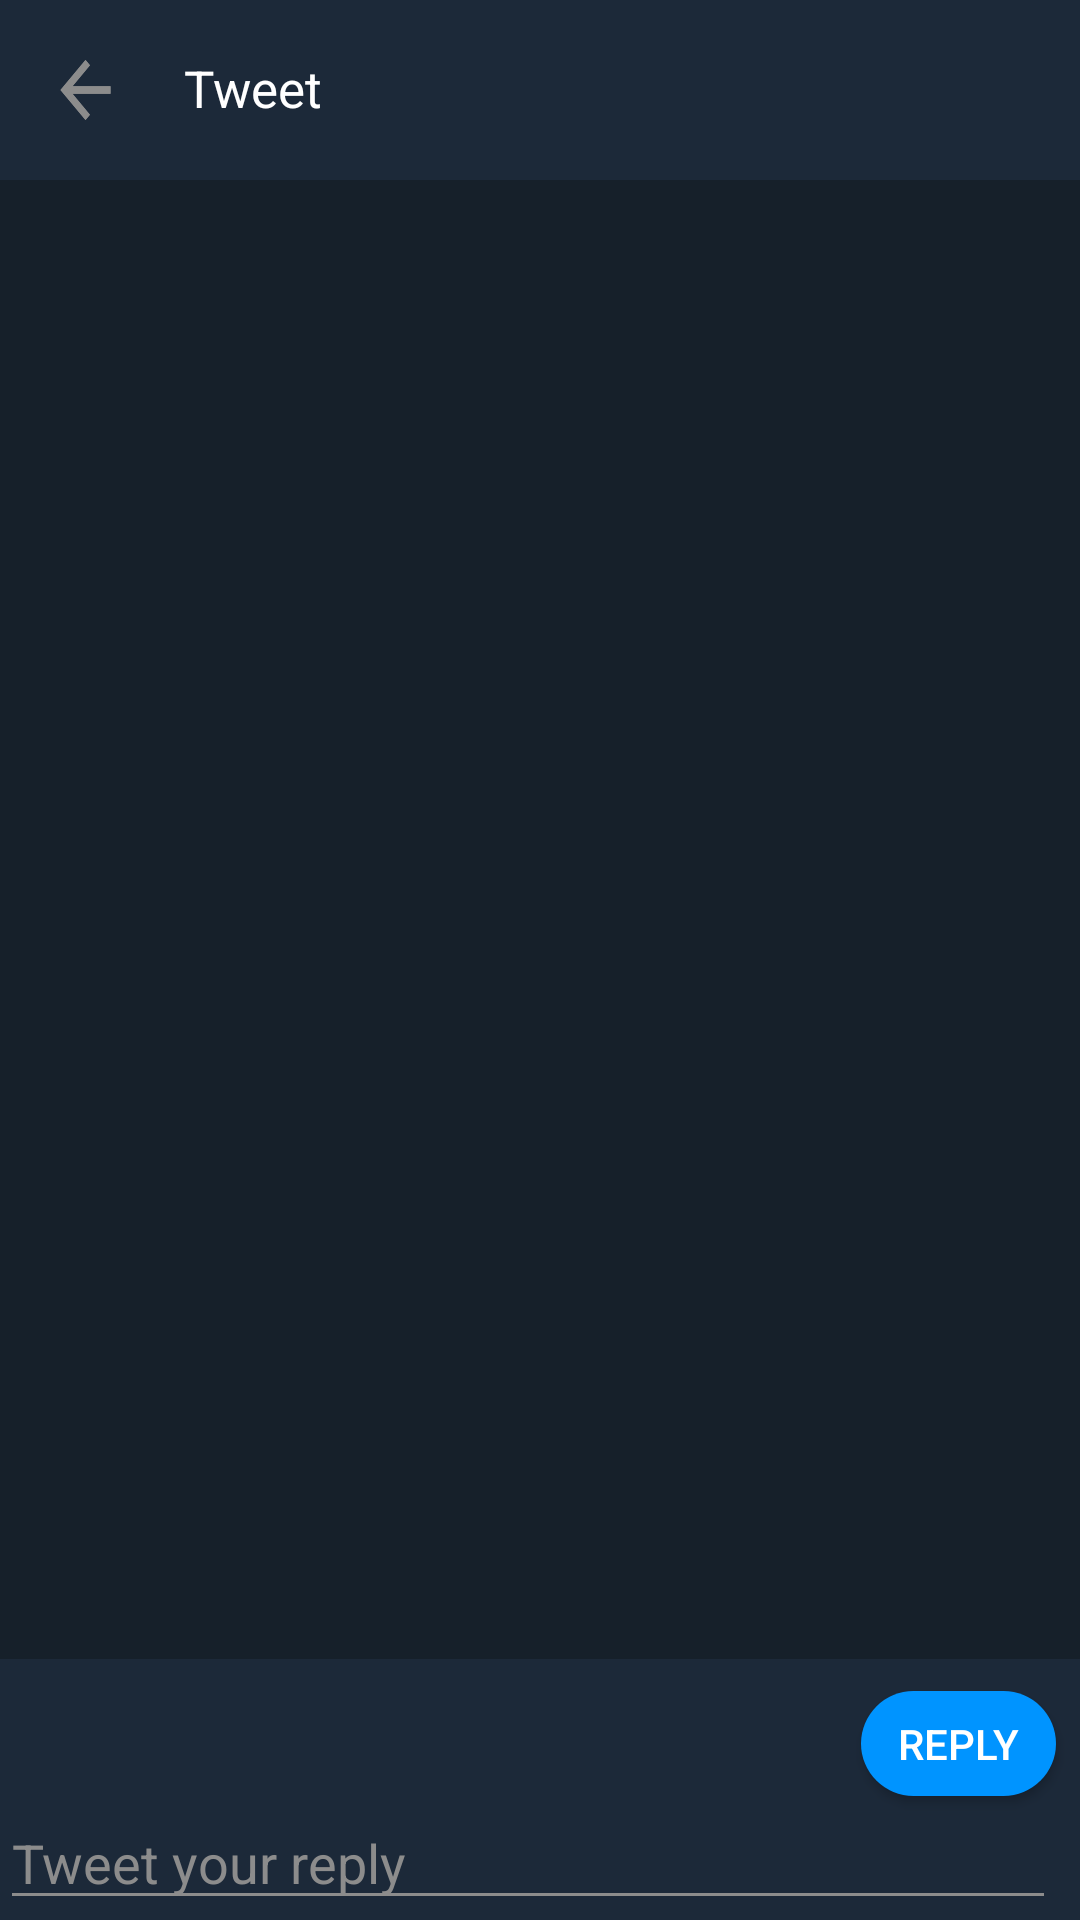

Icon click points for this 1080 × 1920 phone screenshot, format (x=x, y=y):
back: (x=85, y=90)
